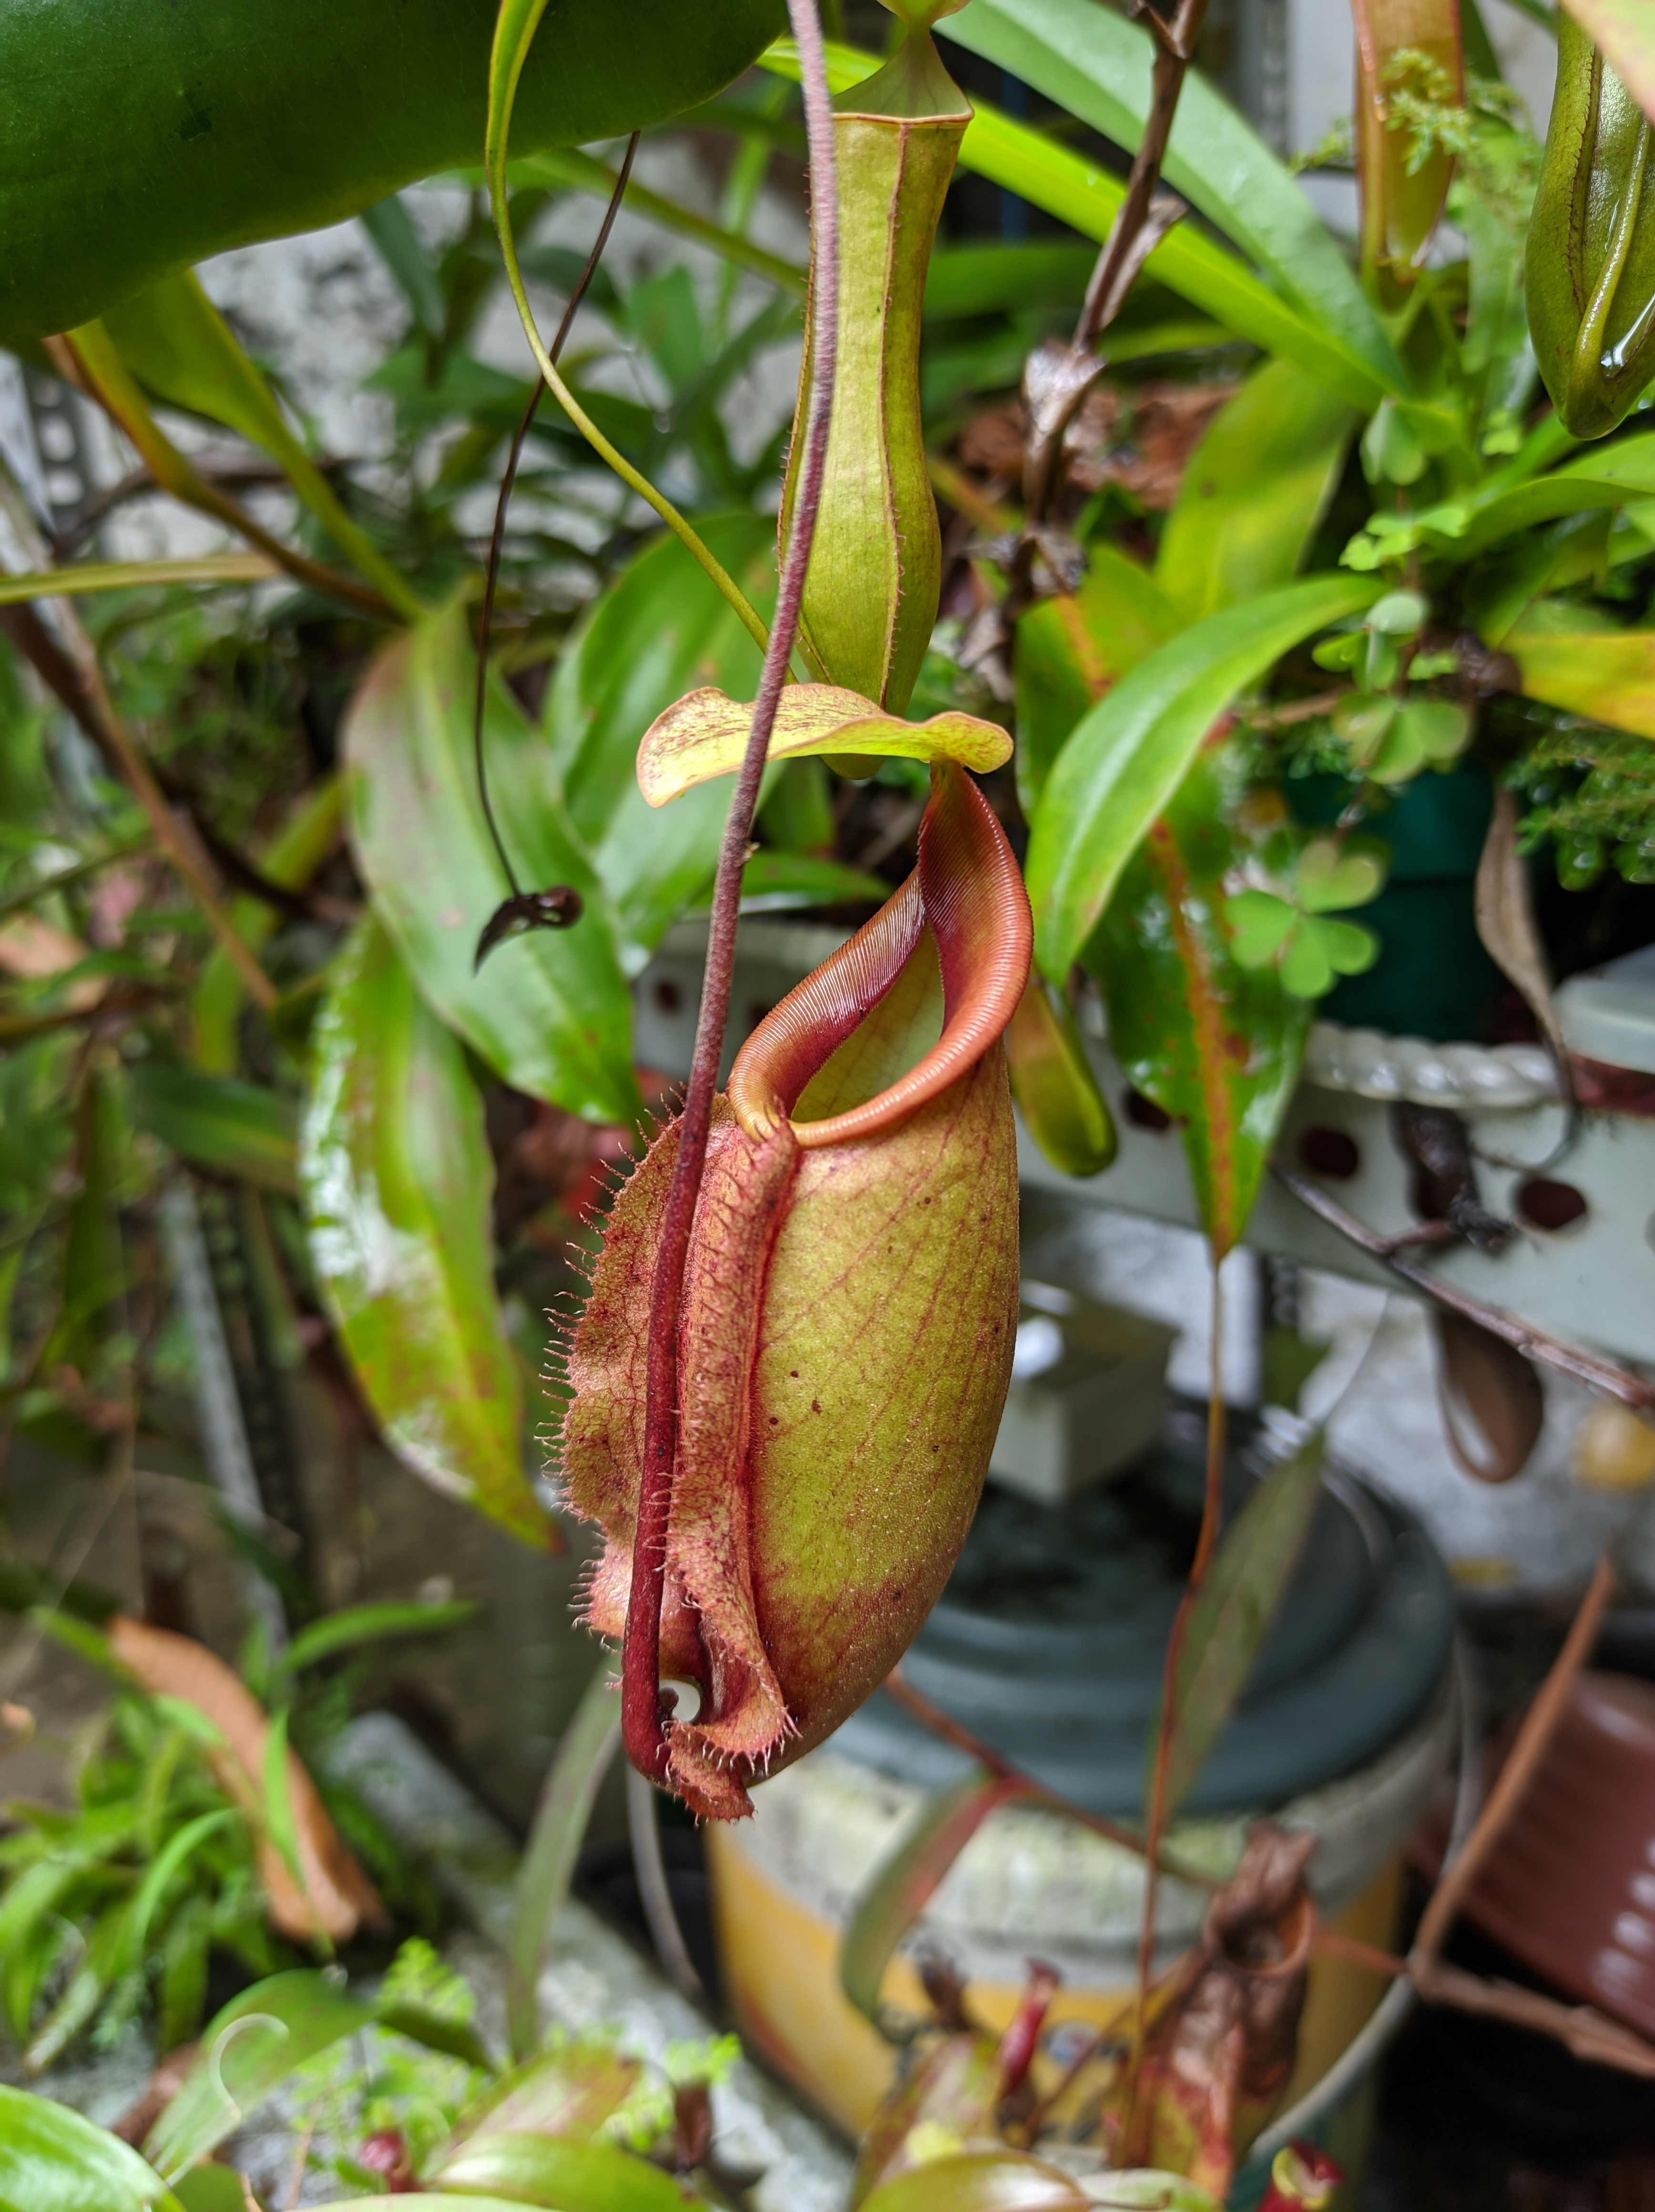Maxima: (469, 666, 1161, 1885)
